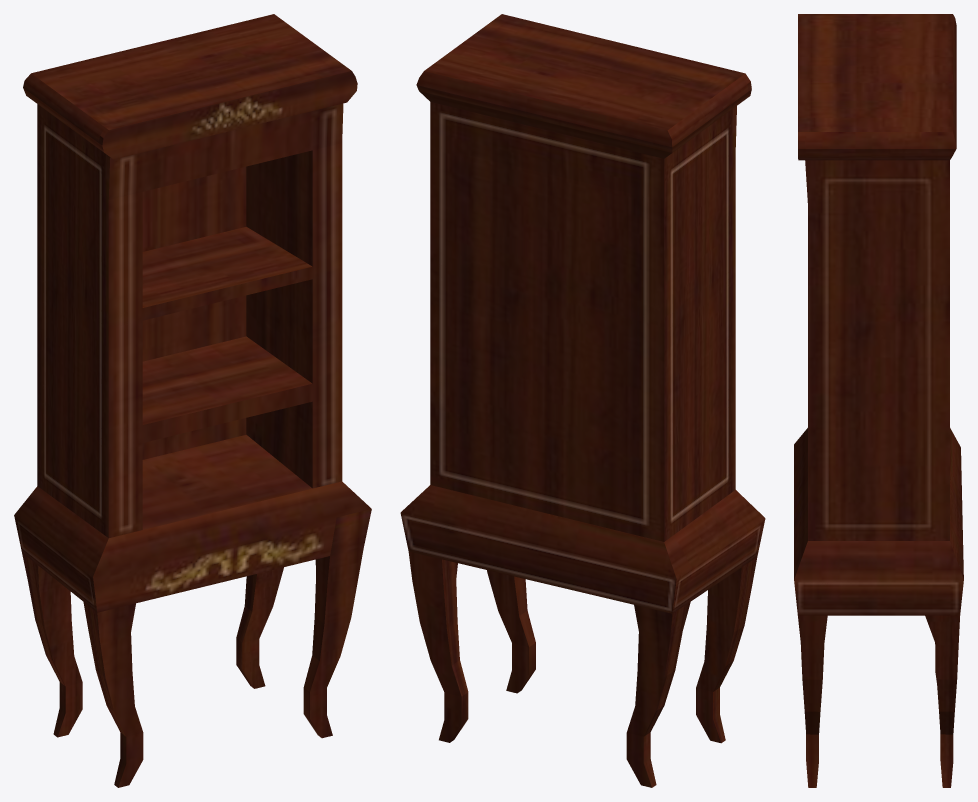
3 renders of one model, left to right at view 1: azimuth 30°, elevation 25°; view 2: azimuth 150°, elevation 25°; view 3: azimuth 270°, elevation 25°, orthographic.
Parts seen in each view (by area): view 1: Object_3; view 2: Object_3; view 3: Object_3.
Part boxes in pixels (left/top/right/bottom): Object_3: left=14, top=14, right=371, bottom=787; Object_3: left=400, top=14, right=765, bottom=787; Object_3: left=794, top=14, right=963, bottom=787.
Size of the model in its own units: 95.81 by 218 by 50.75.
Materials: 1 (1 with a texture image).
